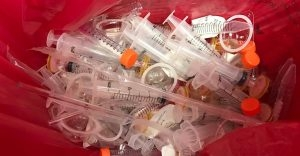plastic: (121, 27, 223, 86), (22, 82, 142, 127), (193, 62, 258, 107), (168, 113, 237, 152), (45, 30, 123, 63), (238, 94, 263, 120), (242, 47, 262, 72), (119, 48, 139, 69)
